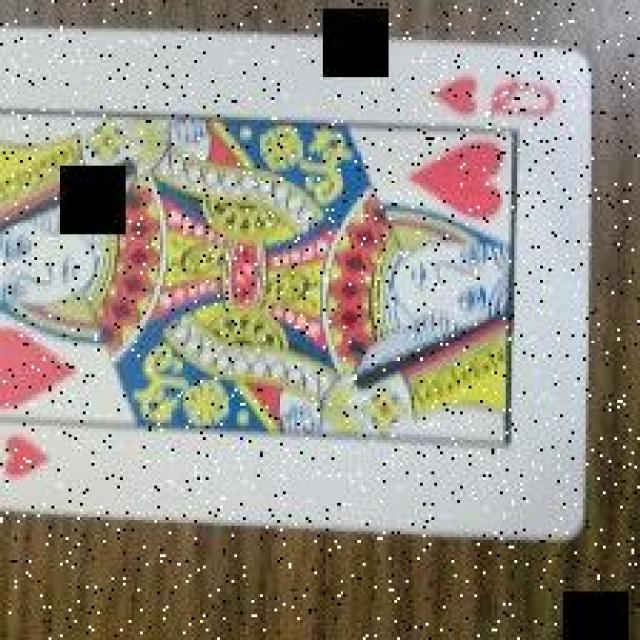Queen of hearts: (0, 30, 590, 539)
